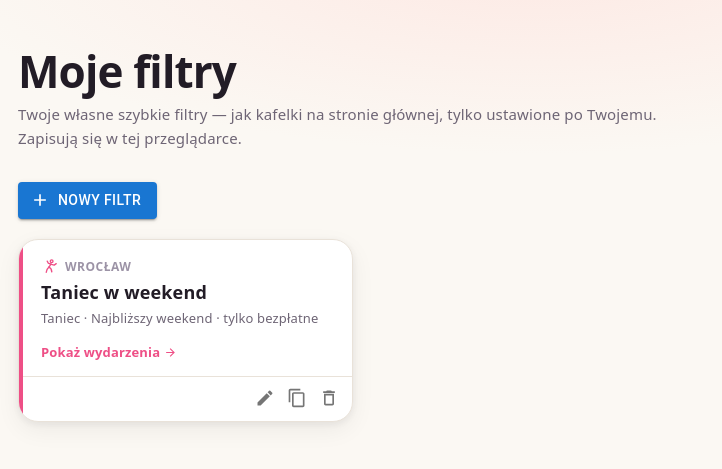
MyFiltersView › duplicates a preset next to the original
This screenshot has width=722, height=469.
Click the button named "Powiel" at {"x": 297, "y": 398}, box [282,383,312,413]
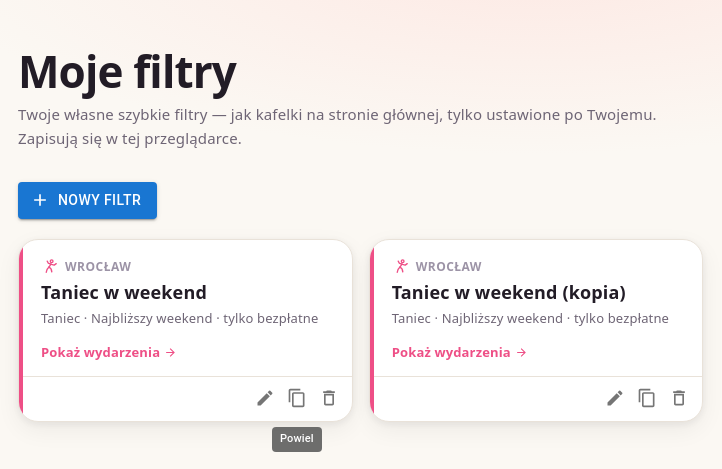
Check: the number of list items is 2, box [18,239,353,422]; [369,239,703,422]
Check: the text "Taniec w weekend (kopia)" is shown, box [392,280,626,304]
